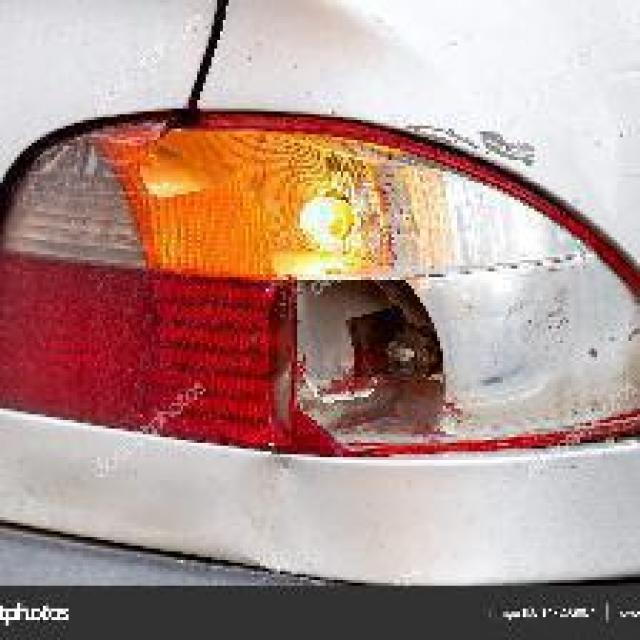damaged: (268, 277, 474, 469)
